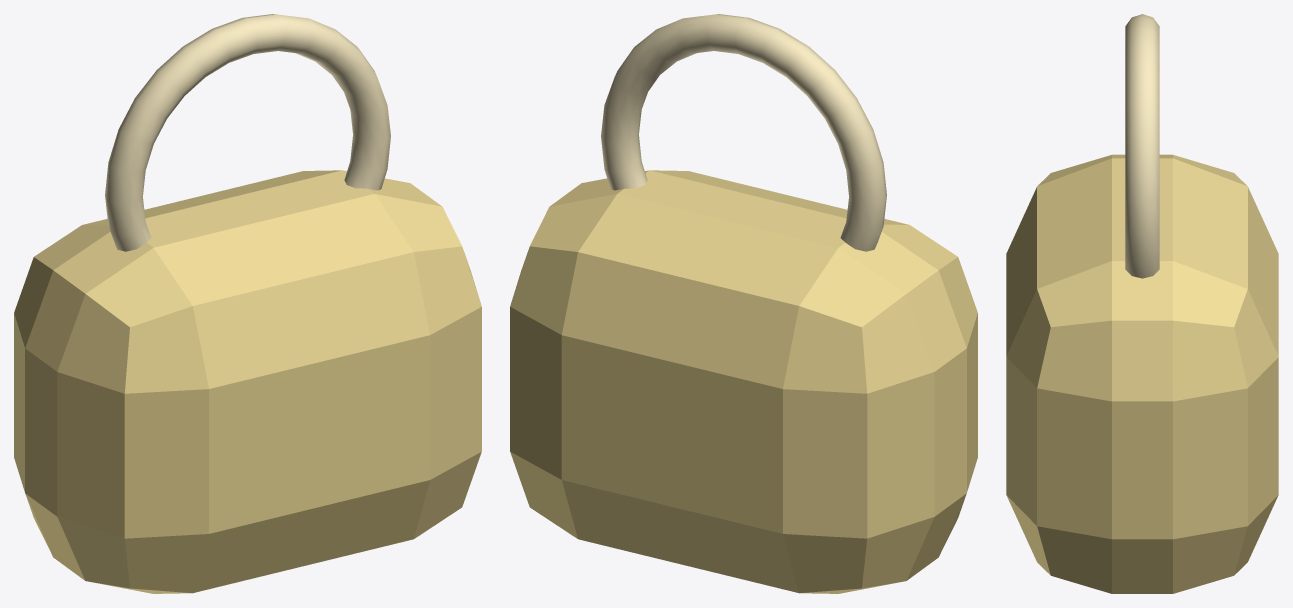
Rendered from VM-NIN-SH20572812.glb.
3 renders of one model, left to right at view 1: azimuth 30°, elevation 25°; view 2: azimuth 150°, elevation 25°; view 3: azimuth 270°, elevation 25°, orthographic. The views are drawn at different scales.
Visible parts, largest first — view 1: Set Princesa con Varita y Corona; view 2: Set Princesa con Varita y Corona; view 3: Set Princesa con Varita y Corona.
Boxes of the visible parts, left/top/right/bottom form: Set Princesa con Varita y Corona: left=14, top=14, right=481, bottom=593; Set Princesa con Varita y Corona: left=510, top=14, right=977, bottom=593; Set Princesa con Varita y Corona: left=1006, top=14, right=1278, bottom=593.
Size of the model in its own units: 0.129 by 0.1599 by 0.0774.
